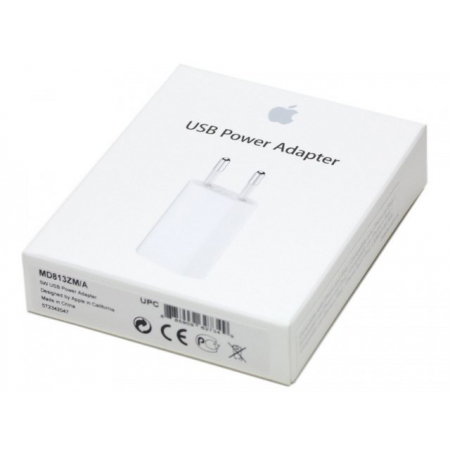Apple: (263, 93, 315, 140)
